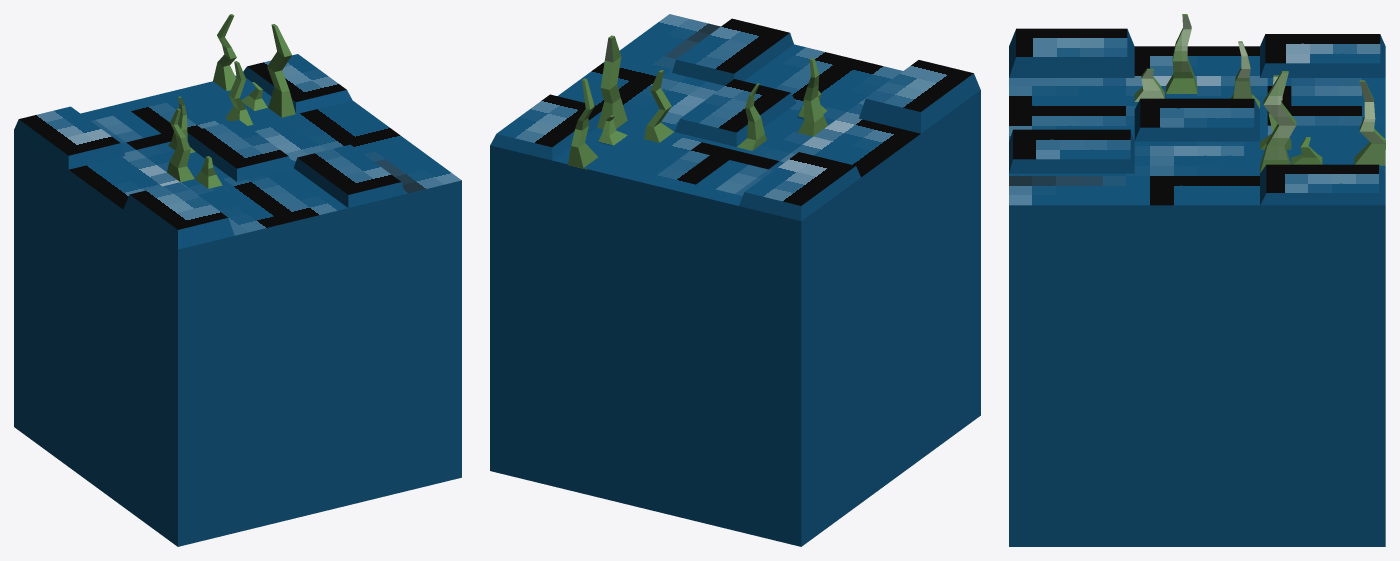
File: brick3.glb
The picture shows the model from 3 angles, left to right: view 1: azimuth 30°, elevation 25°; view 2: azimuth 150°, elevation 25°; view 3: azimuth 270°, elevation 25°; orthographic projection. The views are drawn at different scales.
Visible parts, largest first — view 1: Cube.003; view 2: Cube.003; view 3: Cube.003.
Part boxes in pixels (<box>): Cube.003: <box>14,14,461,546</box>; Cube.003: <box>490,14,980,546</box>; Cube.003: <box>1009,14,1385,546</box>.
Bounding box in the file's own units: 1 × 1.28 × 1.
Materials: 1 (1 with a texture image).
